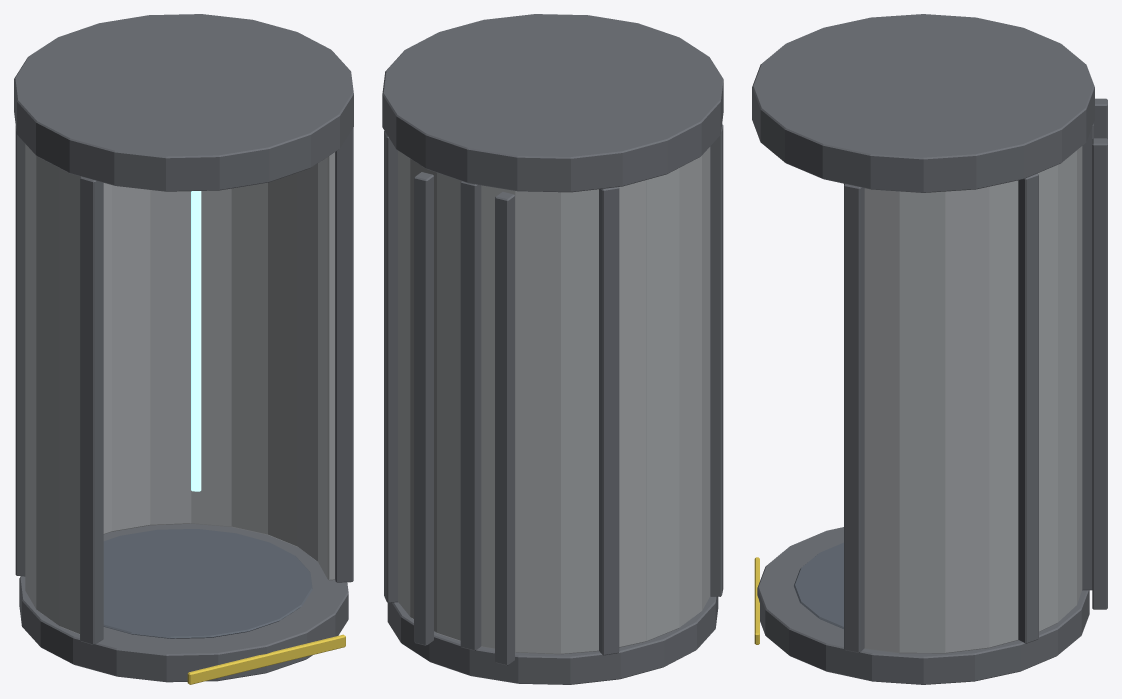
The model's file is clone_pod.glb.
The picture shows the model from 3 angles, left to right: view 1: azimuth 30°, elevation 25°; view 2: azimuth 150°, elevation 25°; view 3: azimuth 270°, elevation 25°; orthographic projection.
Visible parts, largest first — view 1: clone_pod; view 2: clone_pod; view 3: clone_pod.
Boxes of the visible parts, bbox=[...] form: clone_pod: bbox=[14, 14, 353, 684]; clone_pod: bbox=[382, 14, 723, 684]; clone_pod: bbox=[752, 14, 1107, 684].
Size of the model in its own units: 1.32 by 2.25 by 1.37.
